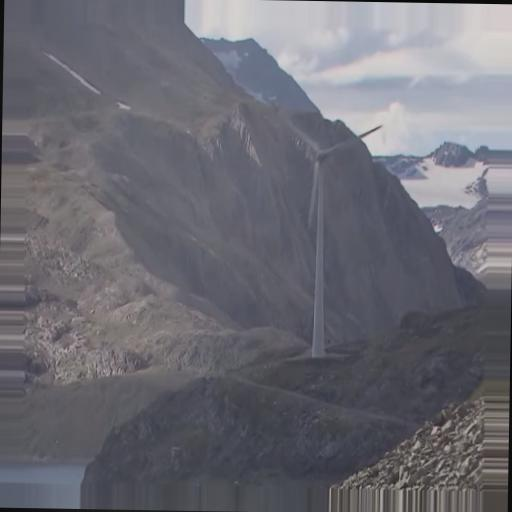wind turbine: (283, 111, 386, 358)
